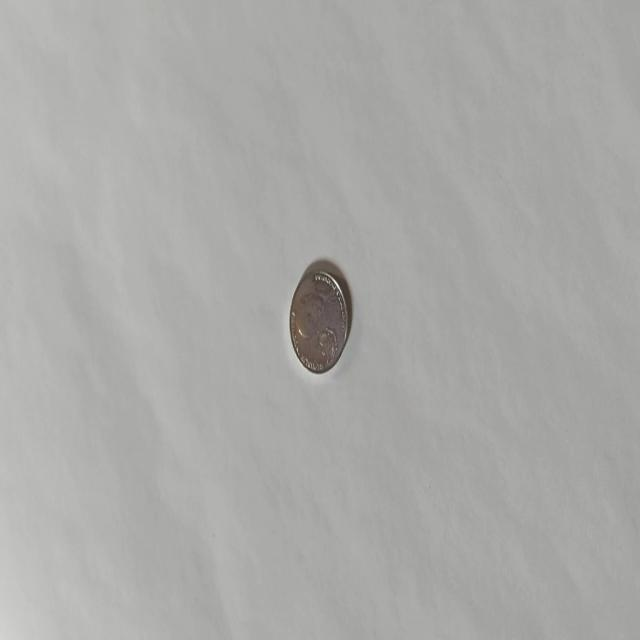lima ratus rupiah: (288, 266, 348, 374)
